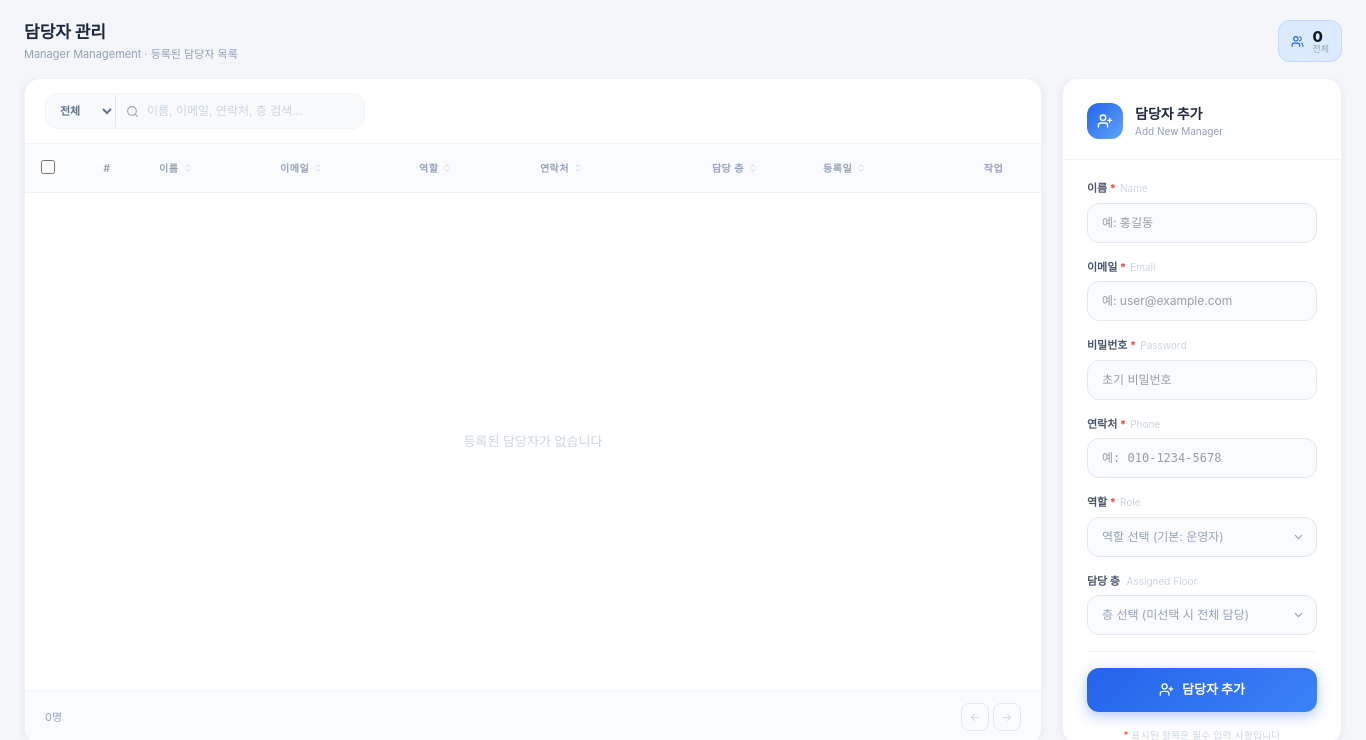
Test: ManagersPage › shows a validation error when submitting the add form without required fields
Step 1. Click the button "담당자 추가" → {"x": 1202, "y": 690}, box [1087,668,1317,712]
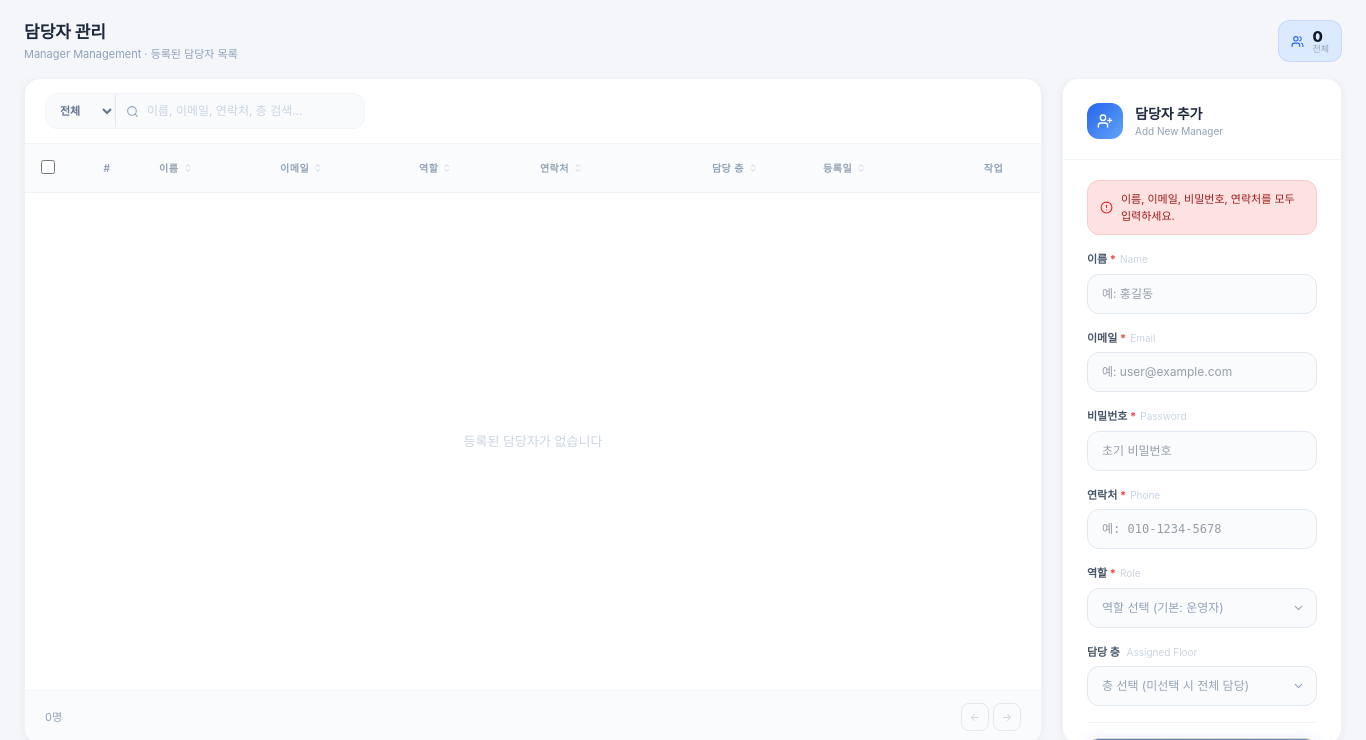
Now the text "이름, 이메일, 비밀번호, 연락처를 모두 입력하세요." is shown, box [1121,191,1304,224]
